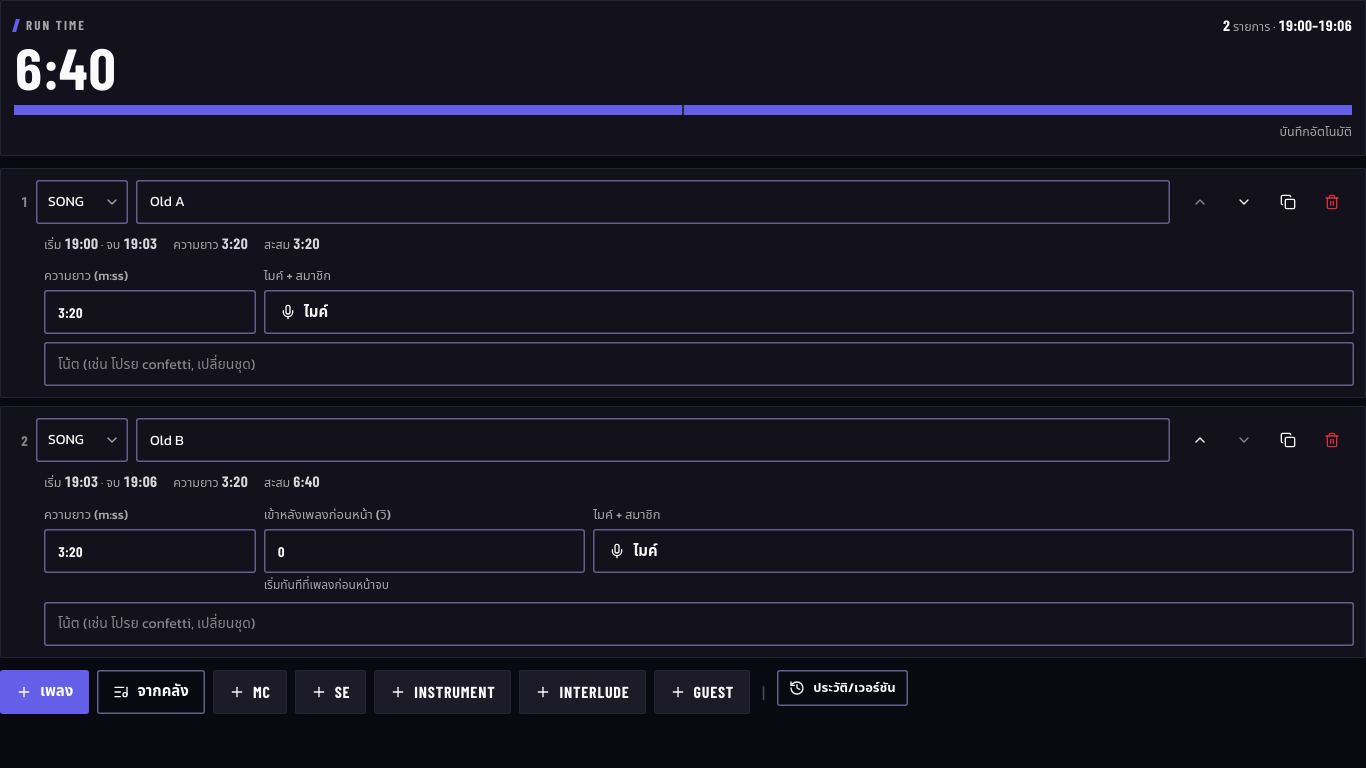
Test: SetlistBuilder — restoring a saved version › replaces the setlist when the delete really removed the old rows
Step 1. Click the button with class "lucide-history" → click(843, 688), box [777, 670, 908, 706]
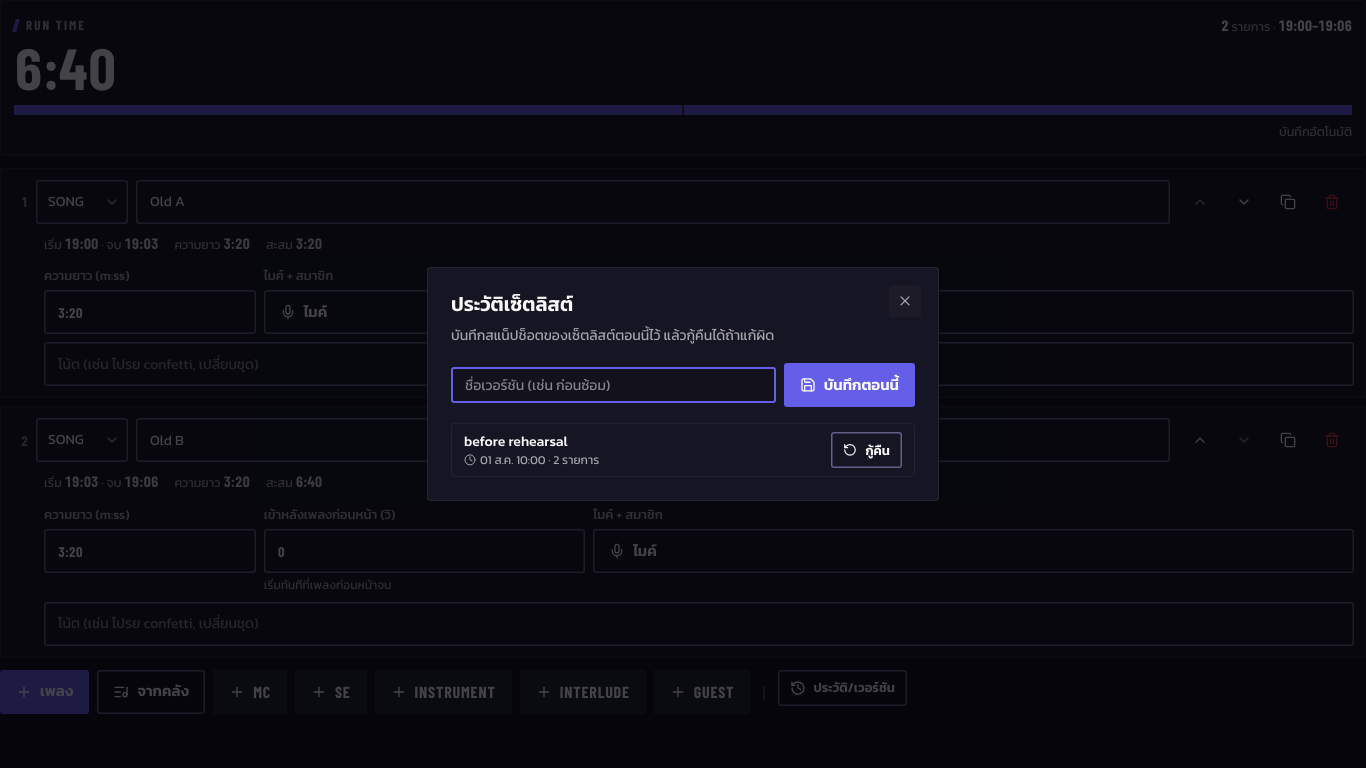
Result: the icon with class "lucide-rotate-ccw" is shown at [844, 443, 858, 457]
Step 2. Click the button with class "lucide-rotate-ccw" → click(867, 450), box [832, 432, 902, 468]
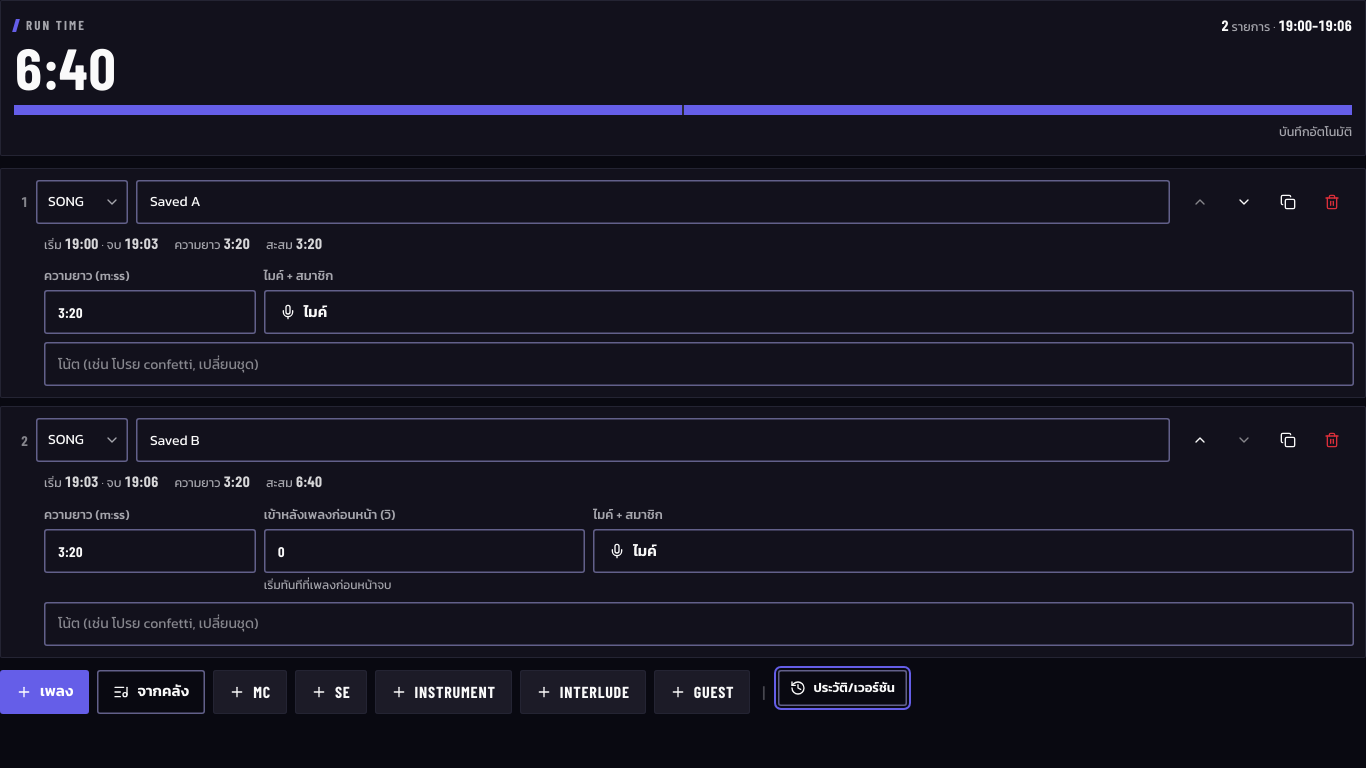
Expected: the field showing "Old A" is not shown
Result: the 1st field showing "Saved A" is shown at [136, 180, 1170, 224]
